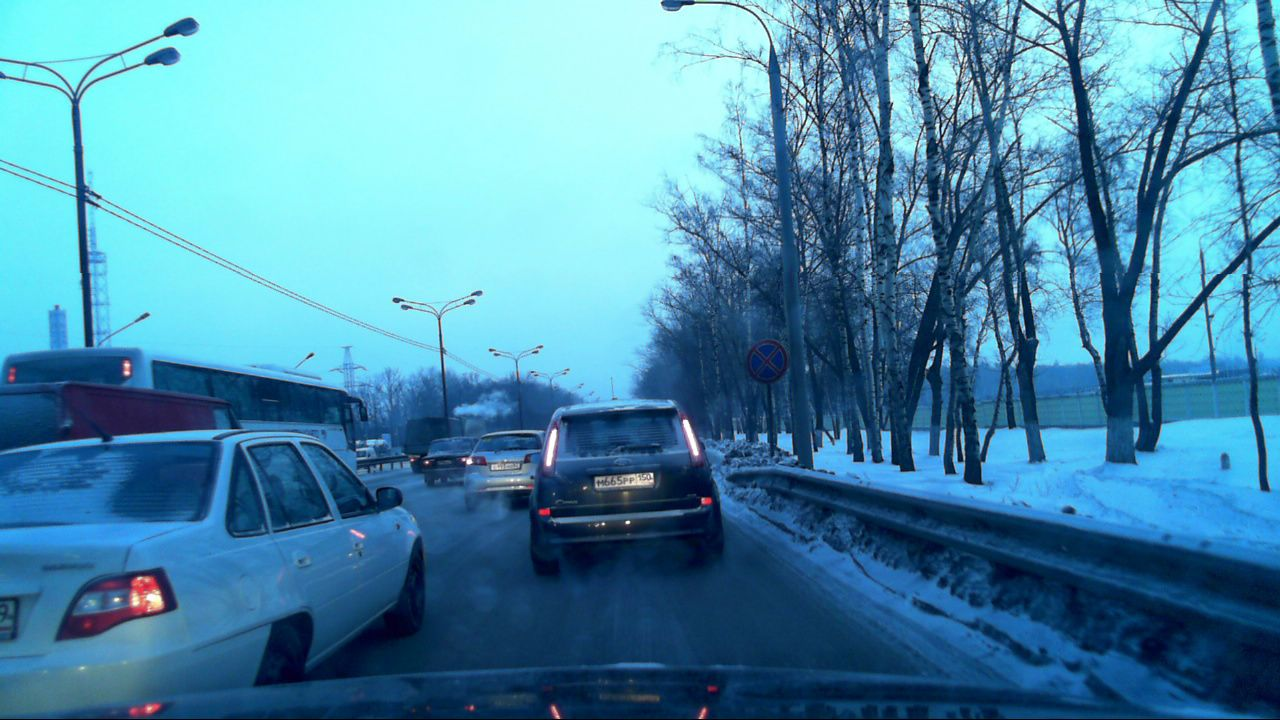No Parking: (745, 339, 788, 384)
